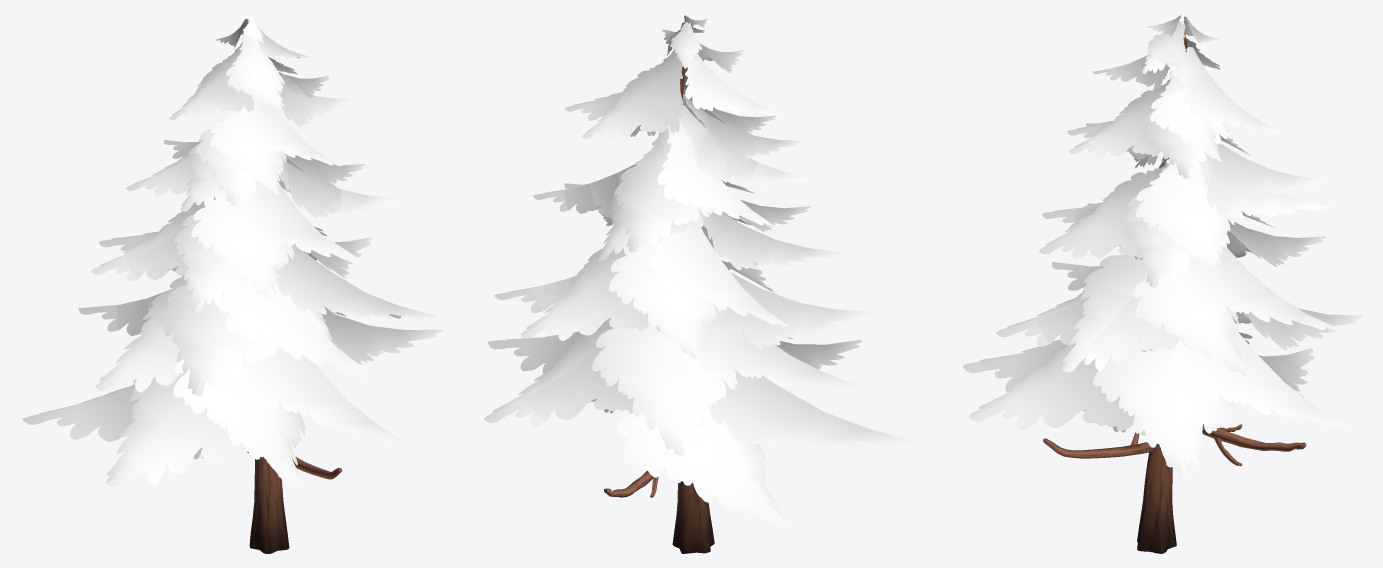
The model's file is Pine_2.glb.
3 views of the same model, side by side, from view 1: azimuth 30°, elevation 25°; view 2: azimuth 150°, elevation 25°; view 3: azimuth 270°, elevation 25° (orthographic). The views are drawn at different scales.
Parts seen in each view (by area): view 1: Pine_2; view 2: Pine_2; view 3: Pine_2.
Part boxes in pixels (x1,y1,x2,y2): Pine_2: (22, 16, 442, 553); Pine_2: (484, 15, 918, 553); Pine_2: (963, 14, 1362, 553).
Bounding box in the file's own units: 5.73 × 7.38 × 5.22.
Materials: 2 (2 with a texture image).
